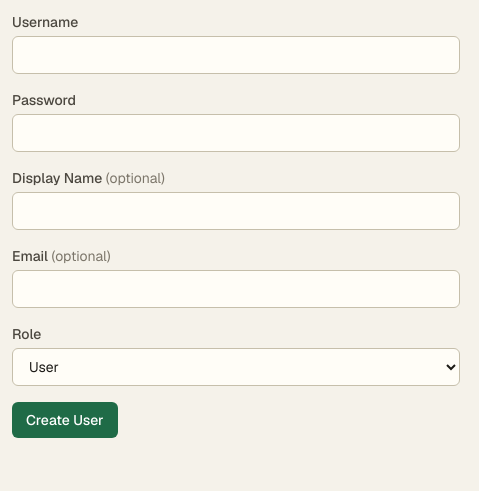
Scenario: AdminUserForm › should show error toast and inline error on API failure
Type "existinguser" into the field labelled "Username" at coordinates (236, 55), box [12, 36, 460, 74]
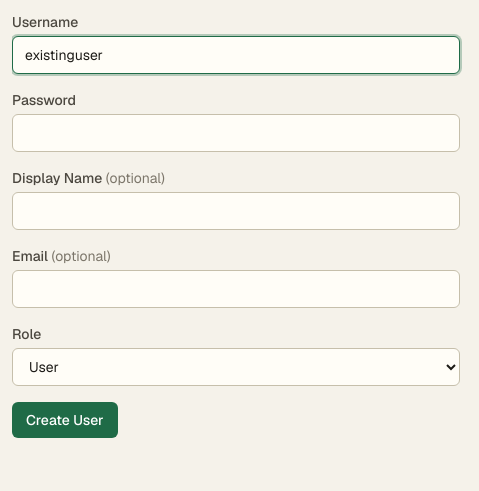
Type "password123" into the password field labelled "Password" at coordinates (236, 133), box [12, 114, 460, 152]
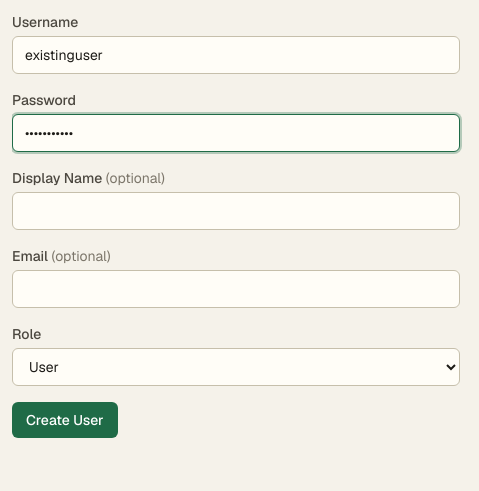
Click the button "Create User" at coordinates (65, 420), box [12, 402, 118, 438]
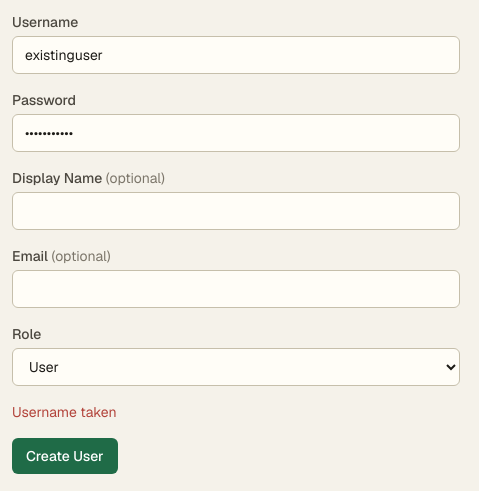
Expected: the text "Username taken" is shown, [12, 403, 117, 421]
